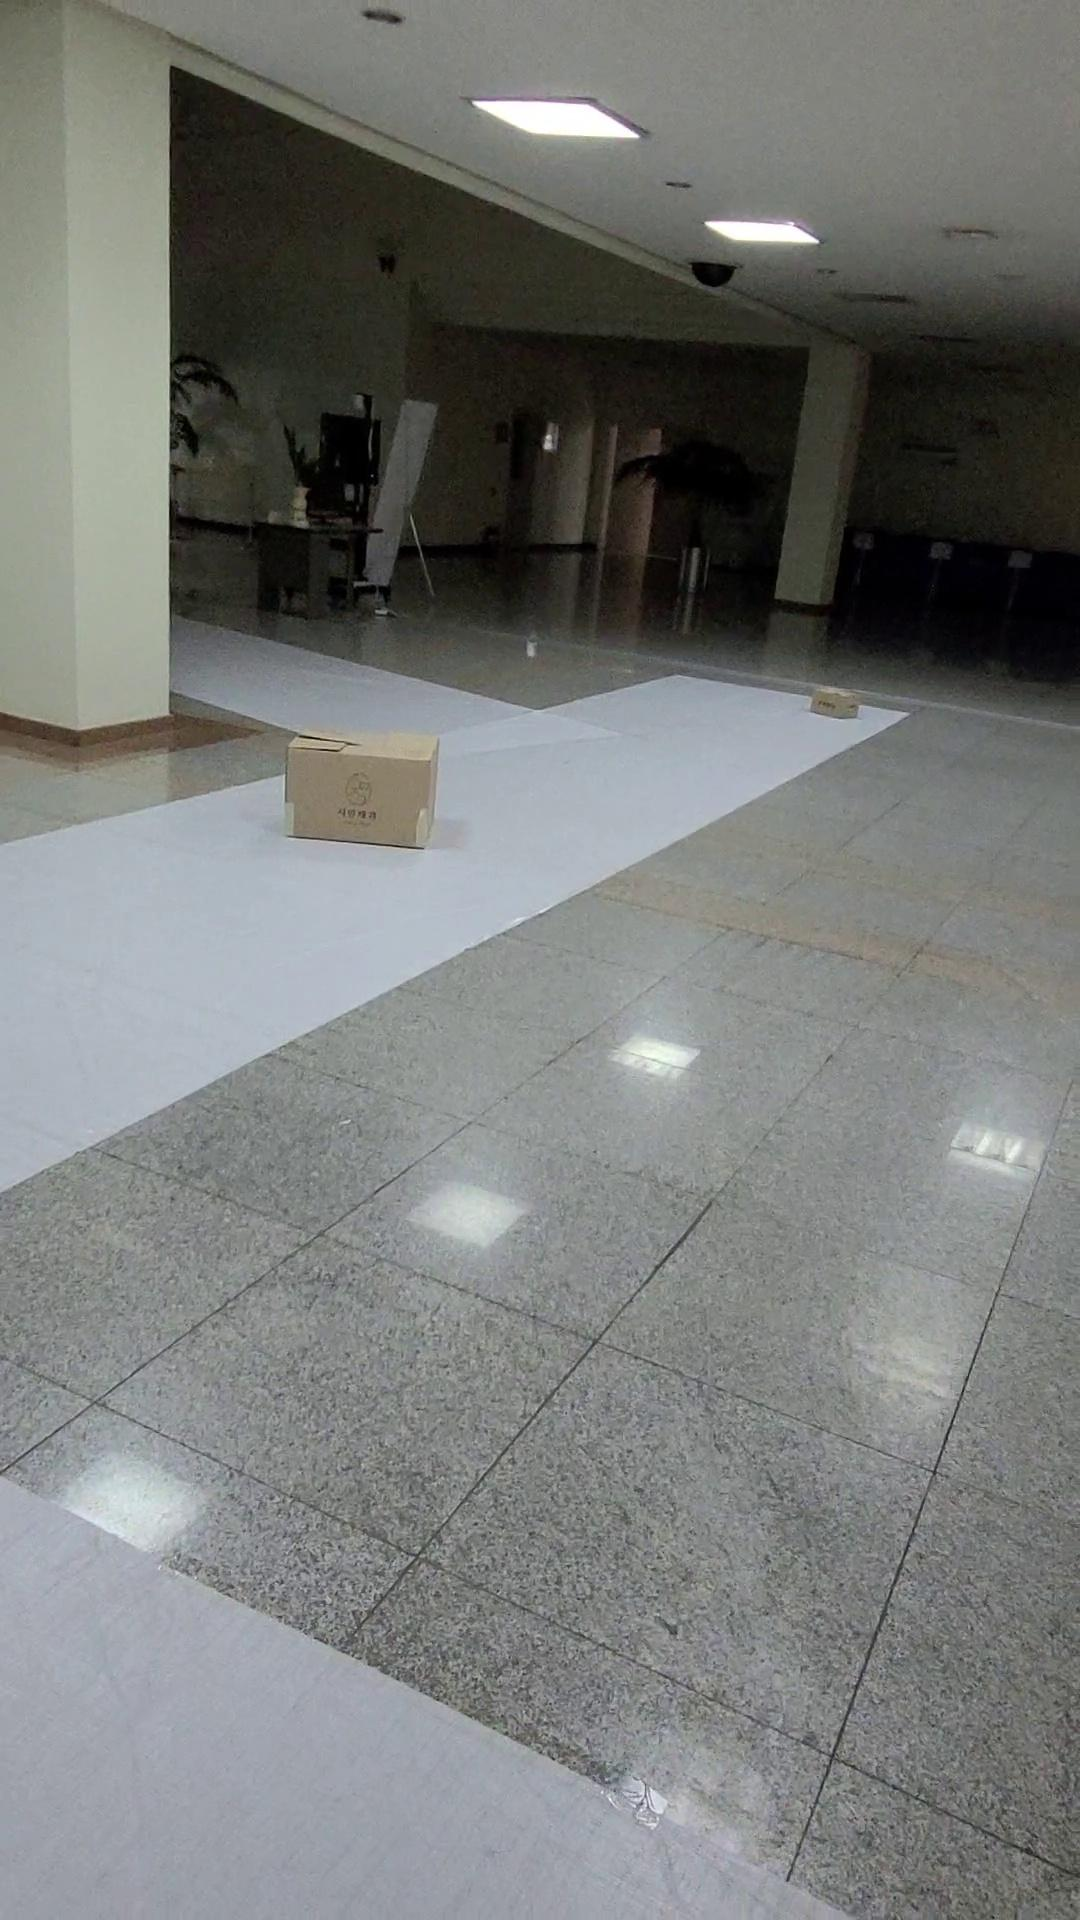Box: (284, 740, 462, 860), (775, 653, 887, 740)
